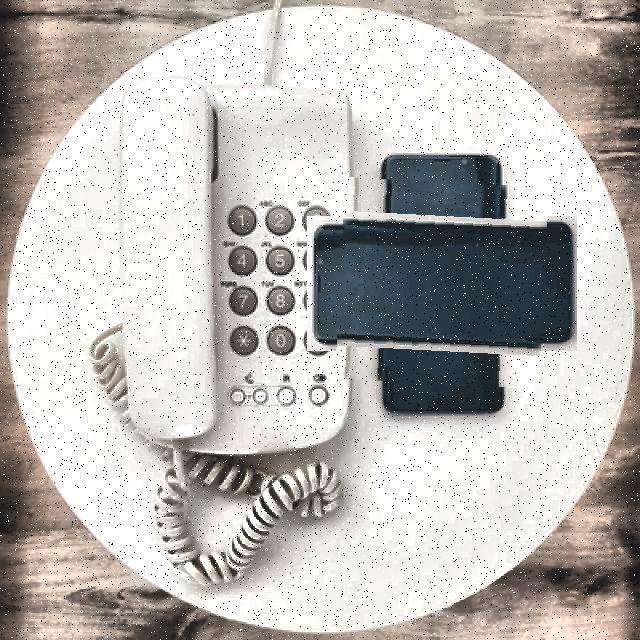Phone: (338, 180, 546, 386)
